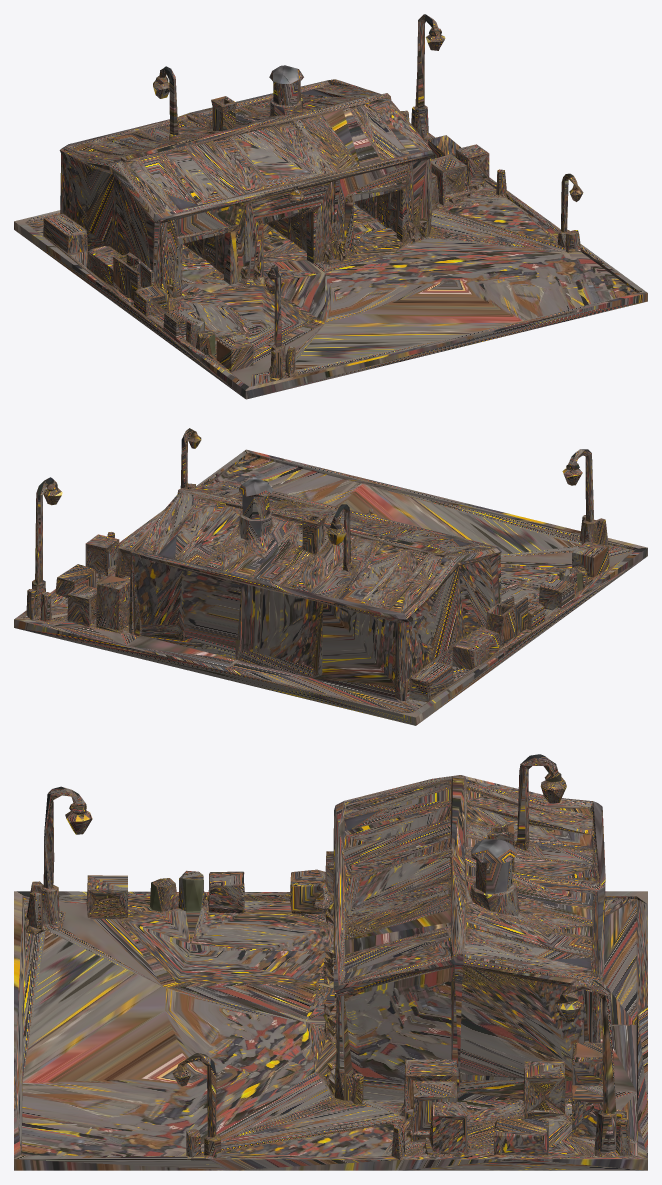
Rendered from truck_depot_bottom_entrance_sw.glb.
3 renders of one model, top to bottom at view 1: azimuth 30°, elevation 25°; view 2: azimuth 150°, elevation 25°; view 3: azimuth 270°, elevation 25°, orthographic. The views are drawn at different scales.
Parts seen in each view (by area): view 1: normalize; view 2: normalize; view 3: normalize.
Part boxes in pixels (bbox=[...]): normalize: bbox=[14, 14, 647, 399]; normalize: bbox=[14, 428, 647, 725]; normalize: bbox=[14, 754, 647, 1170].
Bounding box in the file's own units: 1 × 0.3919 × 0.9999.
1 material, 1 textured.
